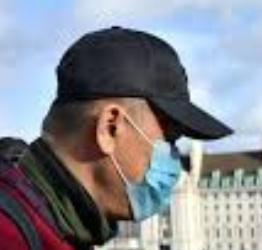OK: (120, 122, 184, 226)
